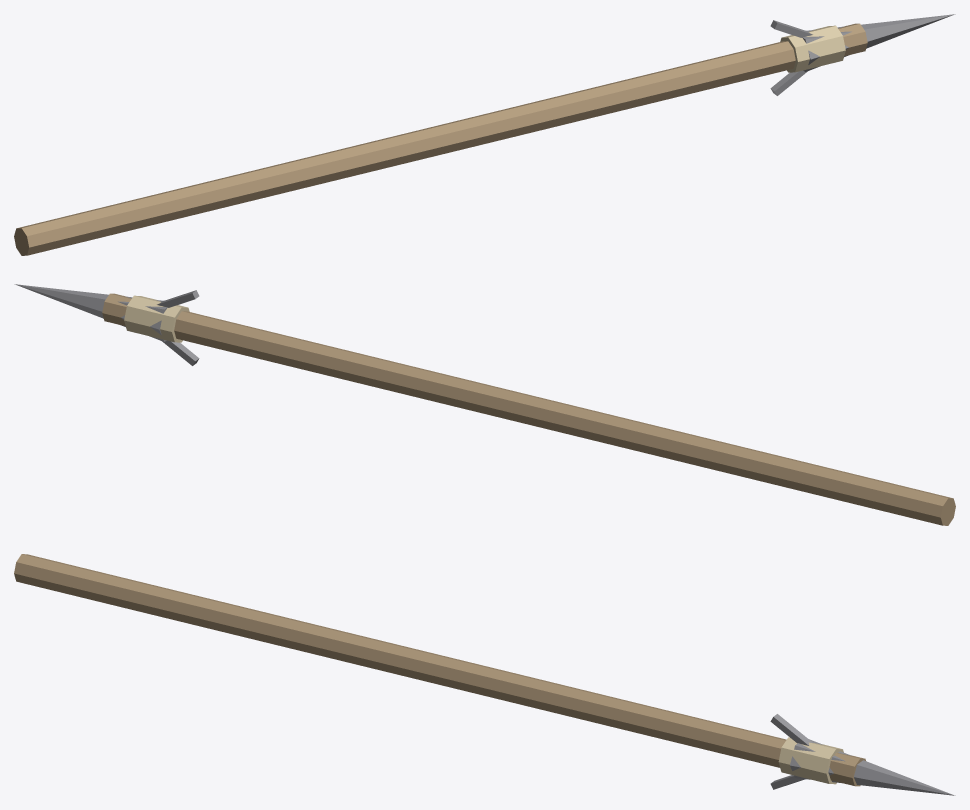
The model's file is dm_harpoon.glb.
The picture shows the model from 3 angles, top to bottom: view 1: azimuth 30°, elevation 25°; view 2: azimuth 150°, elevation 25°; view 3: azimuth 330°, elevation 25°; orthographic projection.
Parts seen in each view (by area): view 1: dm_harpoon; view 2: dm_harpoon; view 3: dm_harpoon.
Boxes of the visible parts, x1,y1,x2,y2 form: dm_harpoon: (14,14,955,255); dm_harpoon: (14,284,955,525); dm_harpoon: (14,554,955,795).
Size of the model in its own units: 1.56 by 0.1167 by 0.06.
